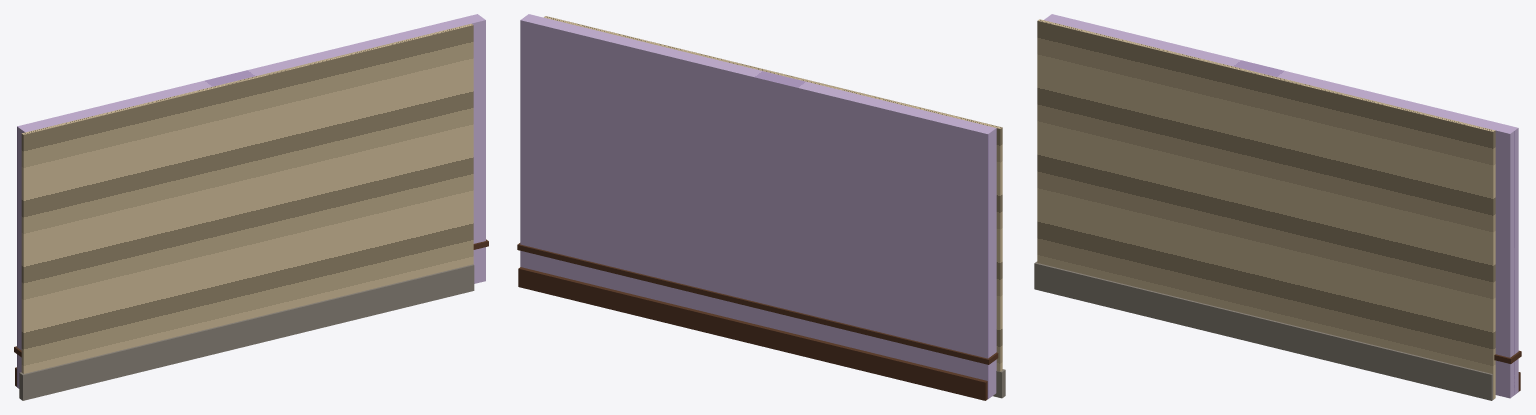
File: bed_south.glb
The picture shows the model from 3 angles, left to right: view 1: azimuth 30°, elevation 25°; view 2: azimuth 150°, elevation 25°; view 3: azimuth 330°, elevation 25°; orthographic projection.
Parts seen in each view (by area): view 1: Box3, Box4, Box1; view 2: Box1, Box2, Box6, Box3, Box5; view 3: Box3, Box4, Box1.
Part boxes in pixels (bbox=[...]): Box3: bbox=[21, 23, 473, 373]; Box4: bbox=[19, 264, 474, 400]; Box1: bbox=[17, 14, 485, 388]; Box1: bbox=[520, 14, 996, 398]; Box2: bbox=[518, 267, 987, 400]; Box6: bbox=[517, 243, 998, 364]; Box3: bbox=[543, 16, 1002, 371]; Box5: bbox=[520, 251, 996, 397]; Box3: bbox=[1037, 19, 1495, 399]; Box4: bbox=[1034, 261, 1493, 400]; Box1: bbox=[1044, 14, 1518, 398].
Bounding box in the file's own units: 4.88 × 2.64 × 0.25.
Materials: 4 (2 with a texture image).
